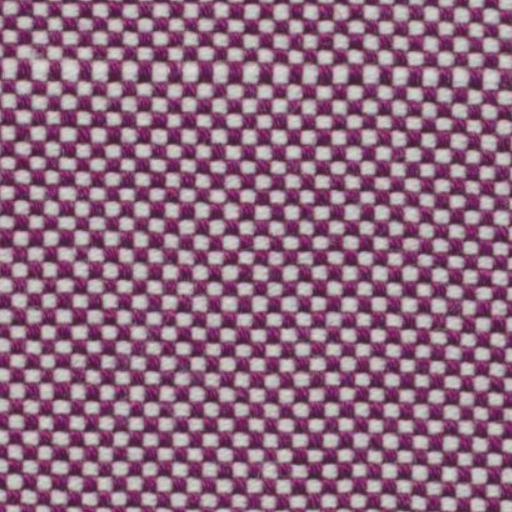TuoSha: (4, 39, 497, 104)
